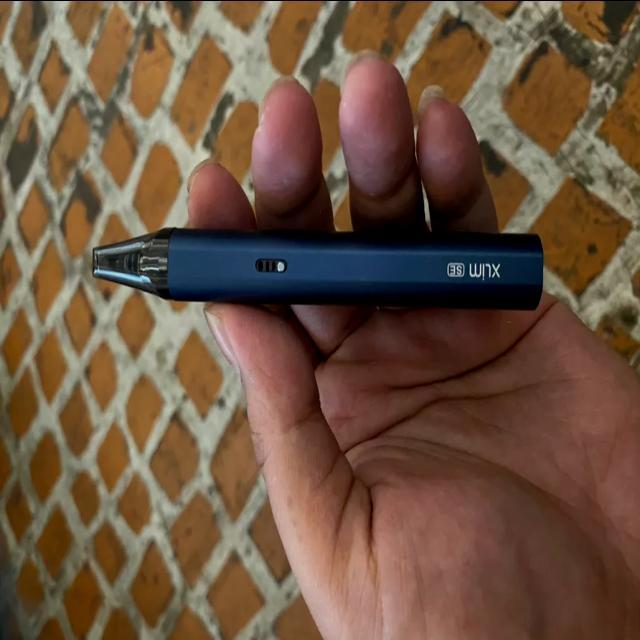Hazard: (91, 225, 548, 308)
